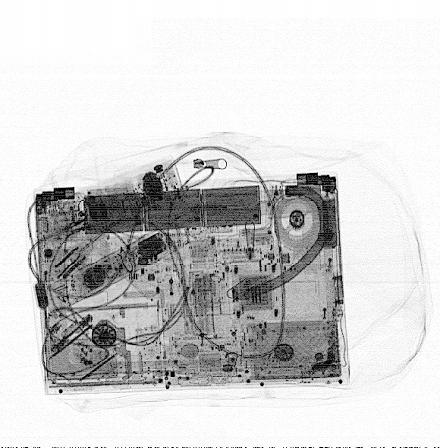Baton: (46, 222, 184, 315)
